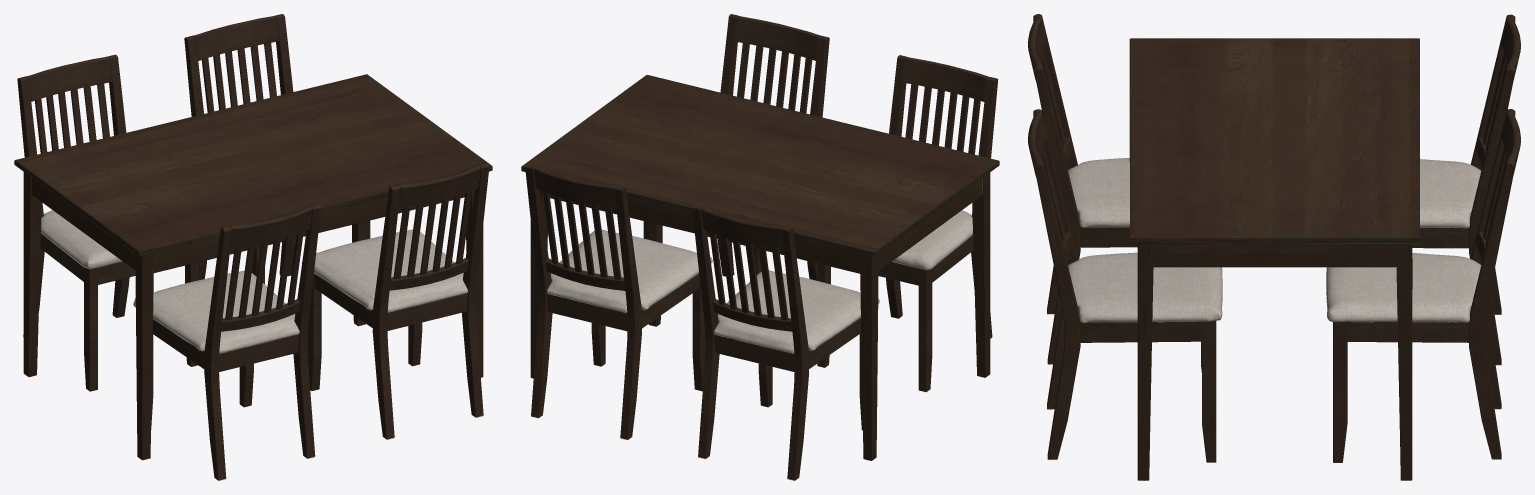
The picture shows the model from 3 angles, left to right: view 1: azimuth 30°, elevation 25°; view 2: azimuth 150°, elevation 25°; view 3: azimuth 270°, elevation 25°; orthographic projection. The views are drawn at different scales.
Visible parts, largest first — view 1: 19602355_table_and_4_chairs:7, 19602355_table_and_4_chairs:2, 19602355_table_and_4_chairs:3, 19602355_table_and_4_chairs:8, 19602355_table_and_4_chairs:1, 19602355_table_and_4_chairs:5, 19602355_table_and_4_chairs:6, 19602355_table_and_4_chairs:9; view 2: 19602355_table_and_4_chairs:7, 19602355_table_and_4_chairs:1, 19602355_table_and_4_chairs:8, 19602355_table_and_4_chairs:3, 19602355_table_and_4_chairs:2, 19602355_table_and_4_chairs:4, 19602355_table_and_4_chairs:9, 19602355_table_and_4_chairs:6; view 3: 19602355_table_and_4_chairs:7, 19602355_table_and_4_chairs:2, 19602355_table_and_4_chairs:1, 19602355_table_and_4_chairs:4, 19602355_table_and_4_chairs:5, 19602355_table_and_4_chairs:3, 19602355_table_and_4_chairs:8, 19602355_table_and_4_chairs:6, 19602355_table_and_4_chairs:9.
Part boxes in pixels (box(x1,y1,x2,y2)): 19602355_table_and_4_chairs:7: box(14, 74, 492, 460); 19602355_table_and_4_chairs:2: box(308, 163, 489, 439); 19602355_table_and_4_chairs:3: box(151, 204, 320, 480); 19602355_table_and_4_chairs:8: box(17, 54, 198, 391); 19602355_table_and_4_chairs:1: box(184, 14, 365, 326); 19602355_table_and_4_chairs:5: box(302, 229, 468, 312); 19602355_table_and_4_chairs:6: box(133, 270, 299, 353); 19602355_table_and_4_chairs:9: box(41, 210, 122, 269); 19602355_table_and_4_chairs:7: box(521, 75, 999, 460); 19602355_table_and_4_chairs:1: box(525, 163, 705, 439); 19602355_table_and_4_chairs:8: box(692, 204, 862, 480); 19602355_table_and_4_chairs:3: box(817, 55, 997, 392); 19602355_table_and_4_chairs:2: box(648, 14, 829, 326); 19602355_table_and_4_chairs:4: box(547, 229, 712, 312); 19602355_table_and_4_chairs:9: box(714, 270, 879, 353); 19602355_table_and_4_chairs:6: box(892, 210, 972, 269); 19602355_table_and_4_chairs:7: box(1129, 38, 1419, 480); 19602355_table_and_4_chairs:2: box(1028, 109, 1216, 462); 19602355_table_and_4_chairs:1: box(1333, 109, 1520, 462); 19602355_table_and_4_chairs:4: box(1326, 253, 1481, 322); 19602355_table_and_4_chairs:5: box(1068, 252, 1222, 322); 19602355_table_and_4_chairs:3: box(1028, 14, 1137, 364); 19602355_table_and_4_chairs:8: box(1412, 14, 1520, 365); 19602355_table_and_4_chairs:6: box(1068, 158, 1129, 227); 19602355_table_and_4_chairs:9: box(1420, 159, 1481, 228).
Bounding box in the file's own units: 1.3 × 0.9004 × 1.36.
Materials: 3 (3 with a texture image).
